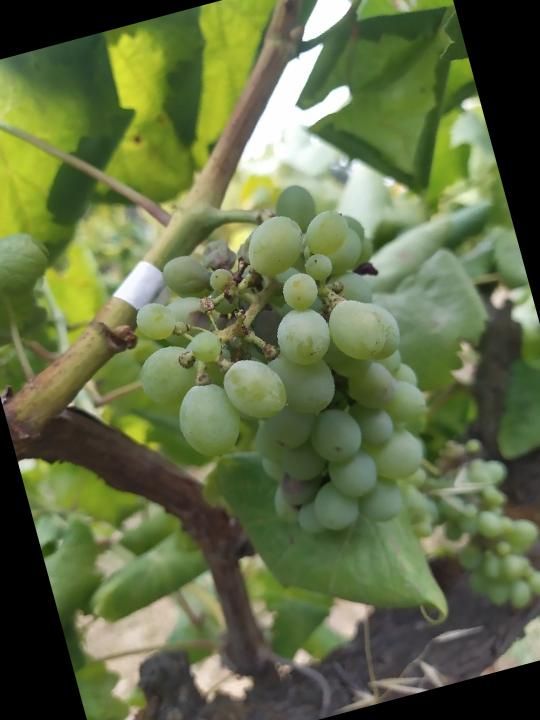grape: (96, 152, 474, 576)
